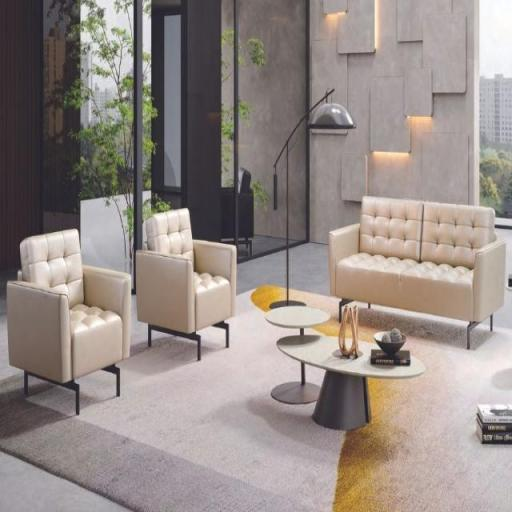sofa: (318, 180, 512, 372), (0, 222, 138, 444)
